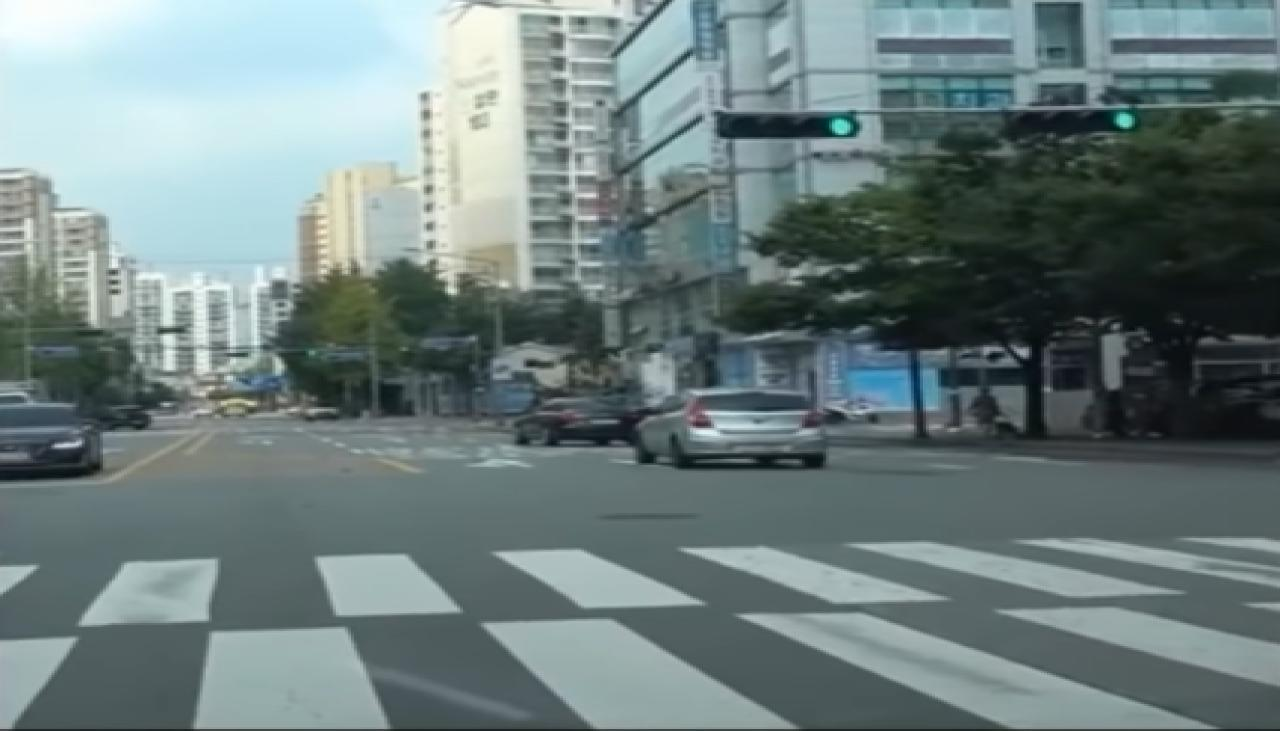Green Light: (1110, 105, 1136, 132), (827, 114, 856, 136)
